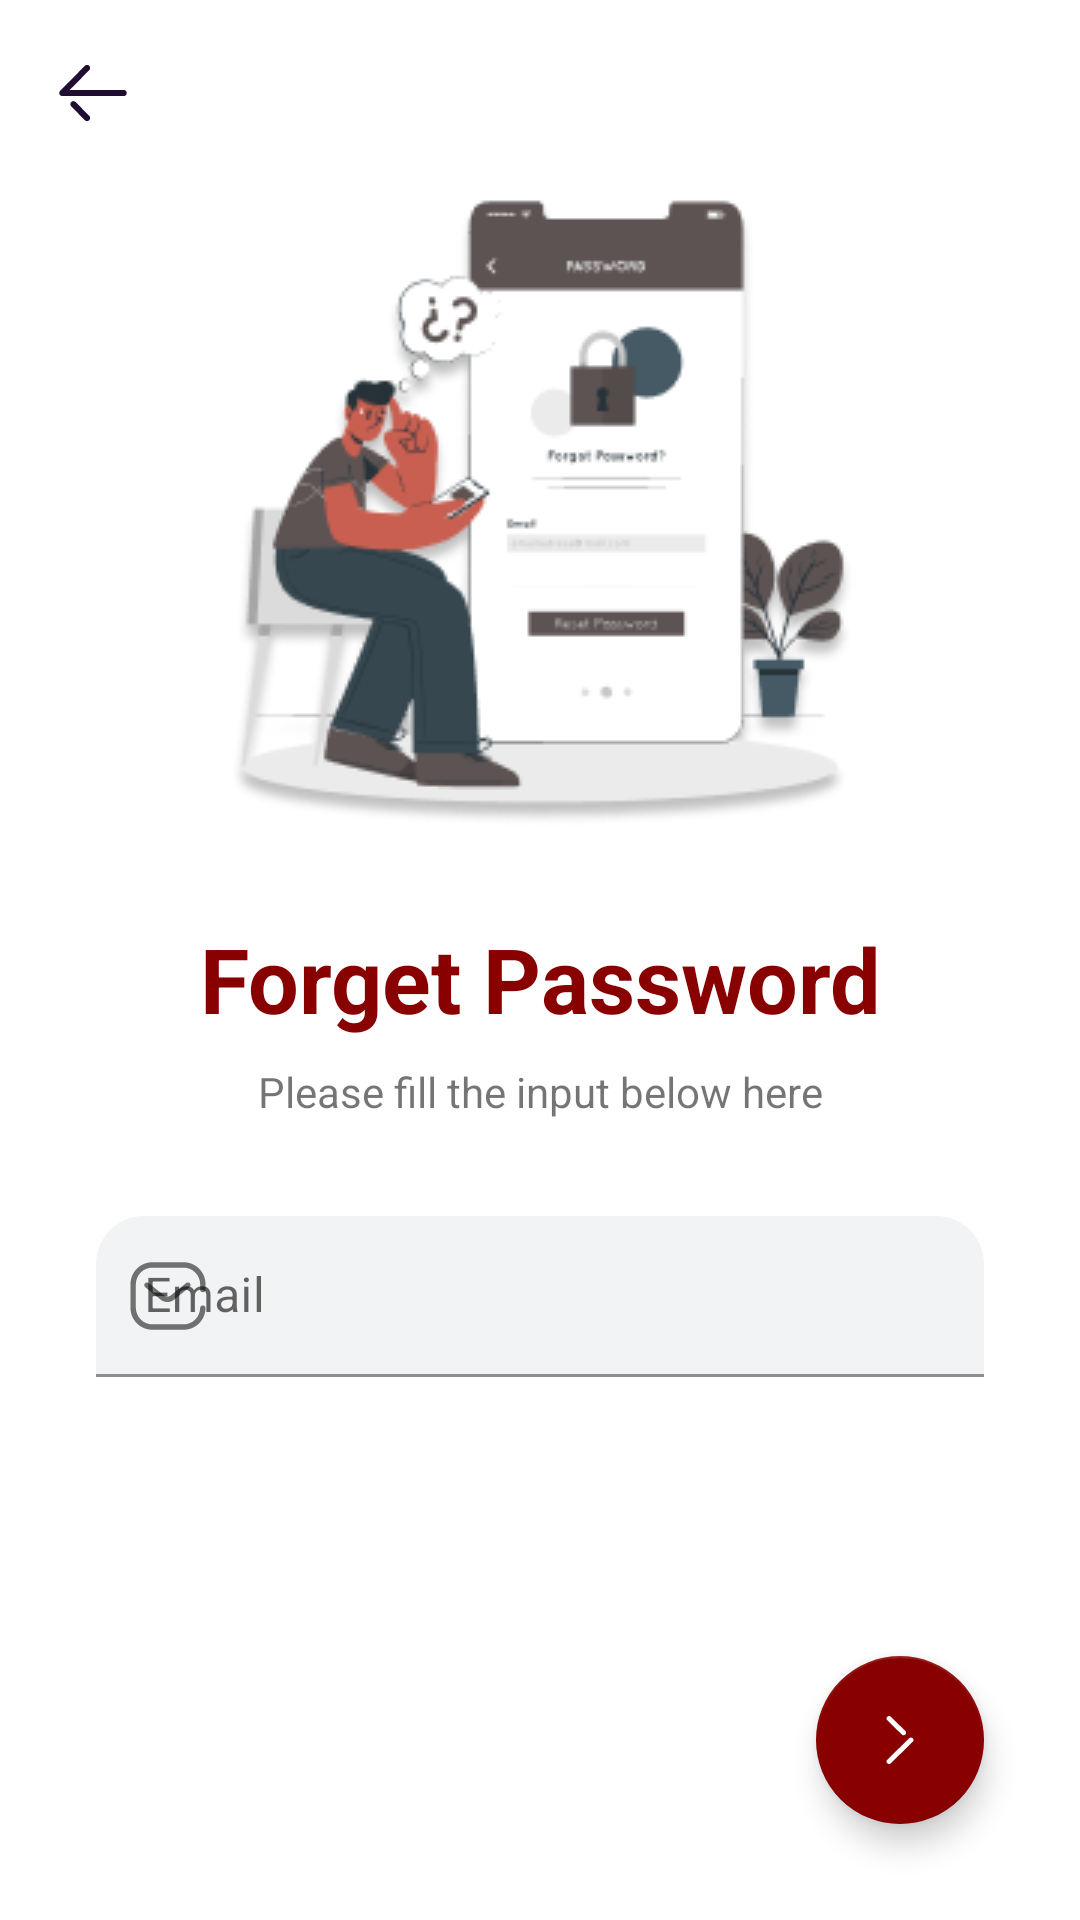

Screen size 1080 x 1920. Icon name, then its box in pixels as (x1, y1, x2, y2):
arrow left: (59, 65, 127, 121)
arrow right: (816, 1656, 984, 1824)
